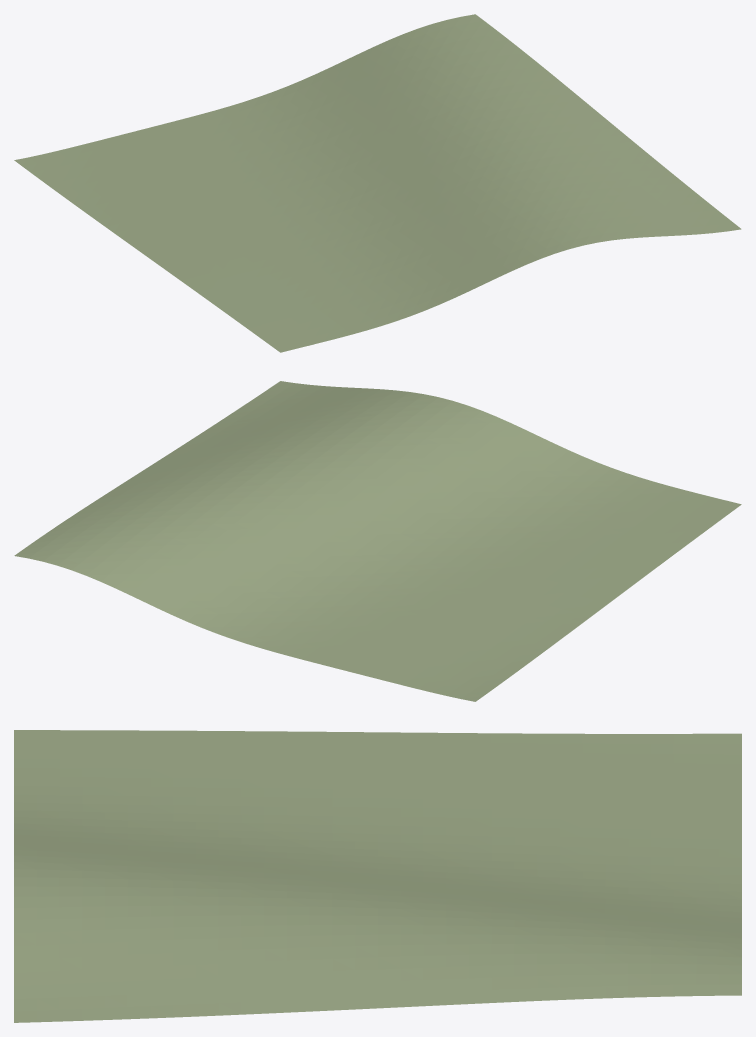
File: desert-6-3.glb
The picture shows the model from 3 angles, top to bottom: view 1: azimuth 30°, elevation 25°; view 2: azimuth 150°, elevation 25°; view 3: azimuth 270°, elevation 25°; orthographic projection. The views are drawn at different scales.
Parts seen in each view (by area): view 1: desert-6-3; view 2: desert-6-3; view 3: desert-6-3.
Part boxes in pixels (bbox=[...]): desert-6-3: bbox=[14, 14, 741, 352]; desert-6-3: bbox=[14, 381, 741, 701]; desert-6-3: bbox=[14, 730, 741, 1022].
Bounding box in the file's own units: 512 × 39.4 × 512.
